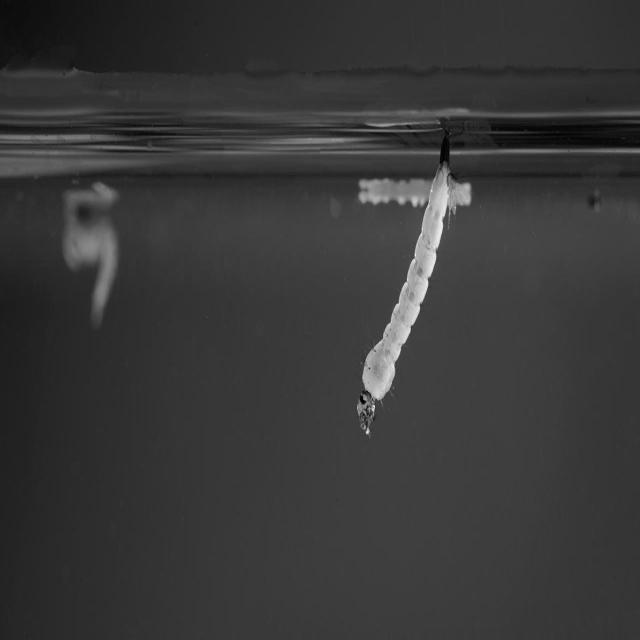larvas: (358, 134, 462, 432), (64, 191, 122, 324), (353, 154, 477, 210)
